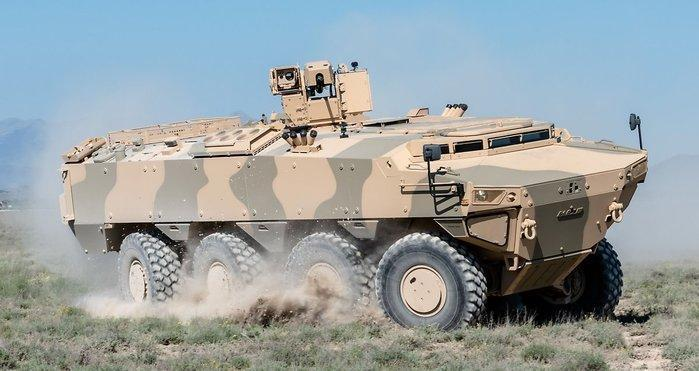MIL_IFV: (56, 56, 650, 332)
